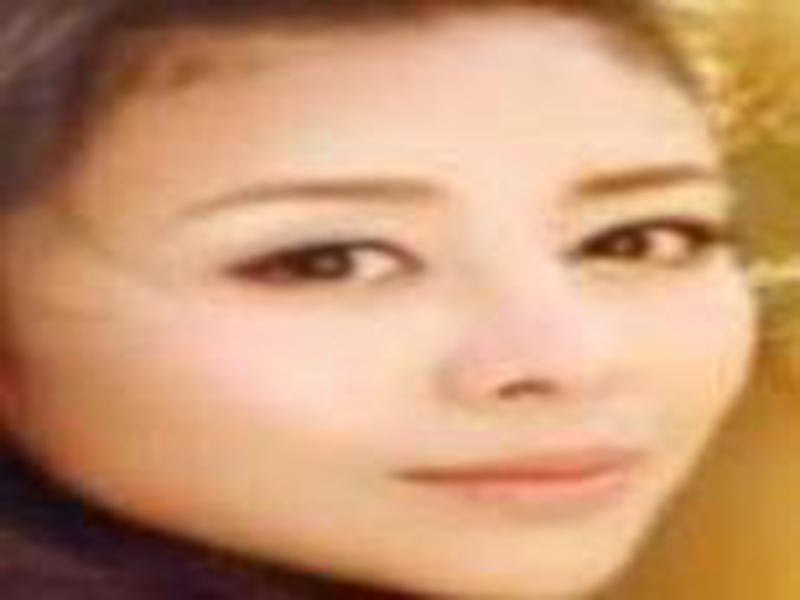without_mask: (72, 35, 760, 600)
